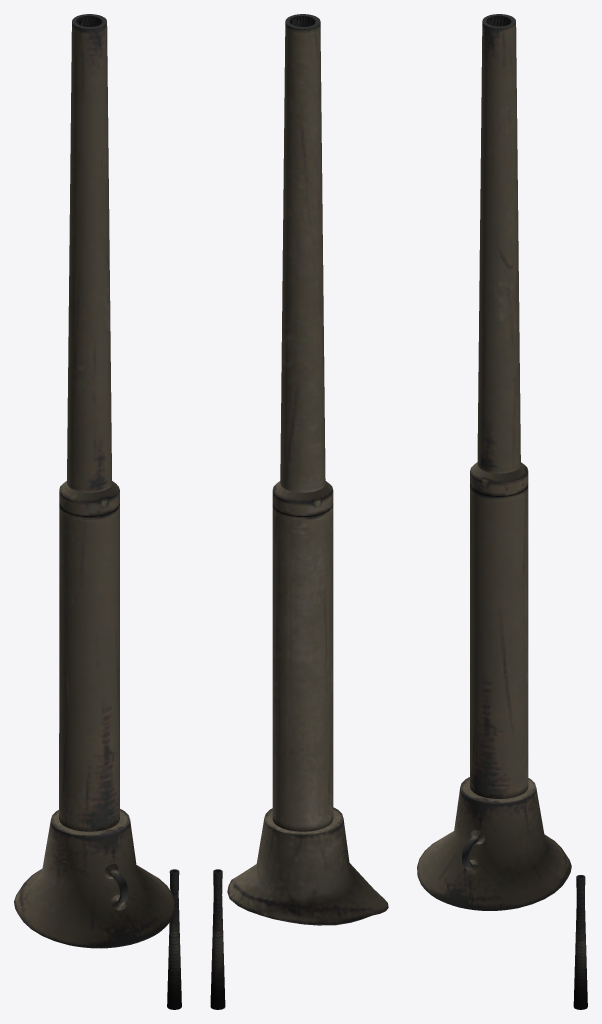
File: Gun_05.glb
The picture shows the model from 3 angles, left to right: view 1: azimuth 30°, elevation 25°; view 2: azimuth 150°, elevation 25°; view 3: azimuth 330°, elevation 25°; orthographic projection. The views are drawn at different scales.
Visible parts, largest first — view 1: set_0_group_0; view 2: set_0_group_0; view 3: set_0_group_0.
Boxes of the visible parts, box(x1,y1,x2,y2) form: set_0_group_0: box(14, 14, 181, 1009); set_0_group_0: box(210, 14, 388, 1009); set_0_group_0: box(417, 14, 587, 1009).
Size of the model in its own units: 0.807 by 4.75 by 0.6058.
Materials: 1 (1 with a texture image).
